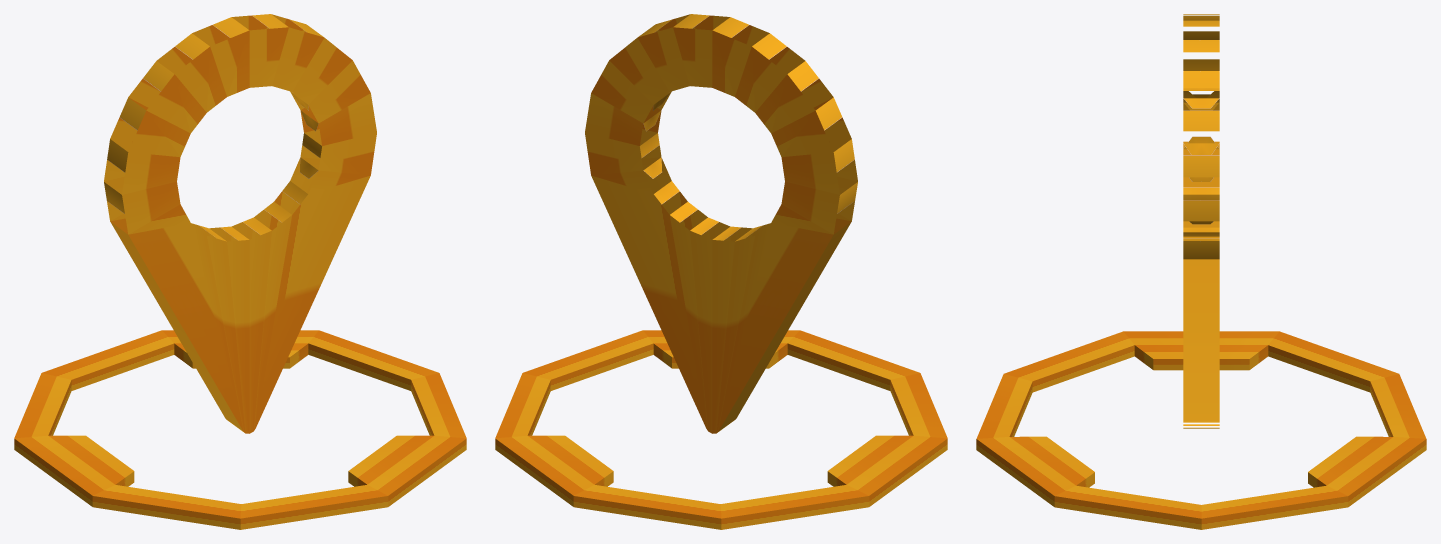
File: Checkpoint.fbx
3 renders of one model, left to right at view 1: azimuth 30°, elevation 25°; view 2: azimuth 150°, elevation 25°; view 3: azimuth 270°, elevation 25°, orthographic.
Visible parts, largest first — view 1: Checkpoint1, Aura; view 2: Checkpoint1, Aura; view 3: Aura, Checkpoint1.
Boxes of the visible parts, x1,y1,x2,y2 form: Checkpoint1: (104, 14, 376, 433); Aura: (14, 330, 466, 529); Checkpoint1: (585, 14, 857, 433); Aura: (495, 330, 947, 529); Aura: (976, 331, 1426, 529); Checkpoint1: (1183, 14, 1219, 428).
Bounding box in the file's own units: 86.55 × 87.66 × 87.88.
